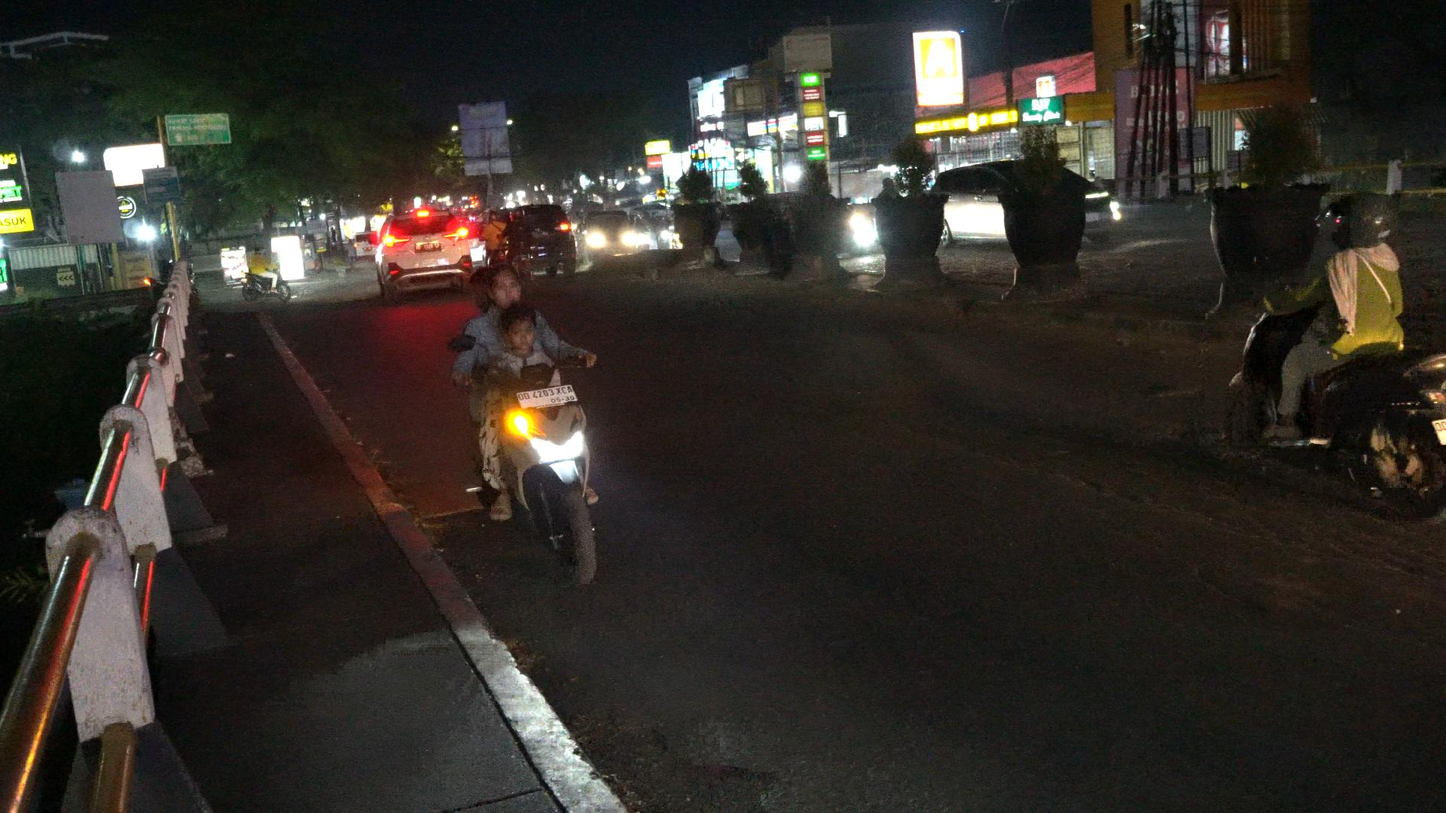number-plate: (517, 383, 579, 412)
